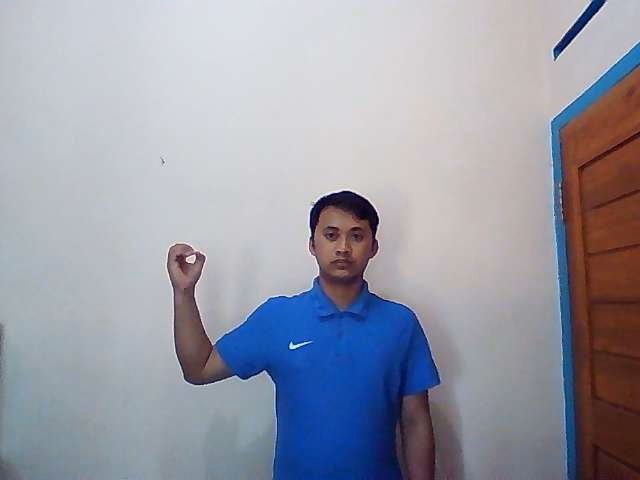O: (166, 242, 208, 295)
